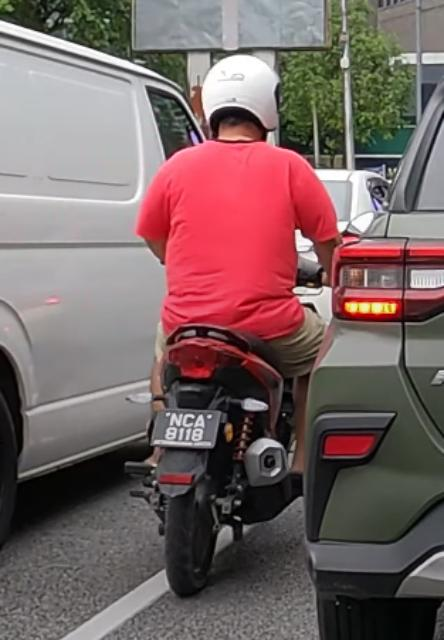License_Plate: (149, 408, 222, 451)
motorcycle: (126, 208, 379, 598)
